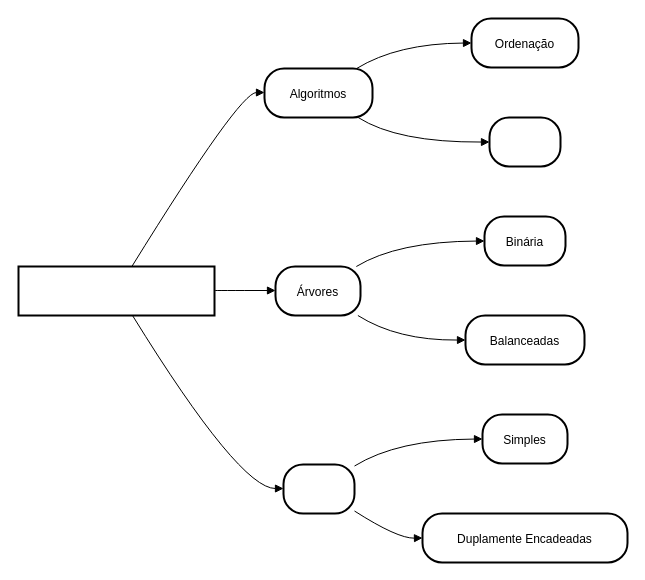
The diagram is 645 pixels wide and 580 high, and some of its shapes have lost their labels. The shapes that lost their labels are listed below. From the top down, each one's box as (x1, y1, x2, y2) in pixels, then its label:
(488, 116, 561, 167): Busca
(17, 265, 215, 316): Estrutura de Dados
(282, 463, 355, 514): Listas
